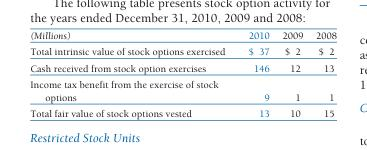table: (29, 29, 336, 118)
table column: (29, 29, 236, 118), (236, 29, 275, 118), (275, 29, 308, 118), (308, 29, 336, 118)
table column header: (29, 29, 336, 42)
table row: (29, 75, 336, 104), (29, 42, 336, 59), (29, 59, 336, 75), (29, 104, 336, 118), (29, 29, 336, 42)
